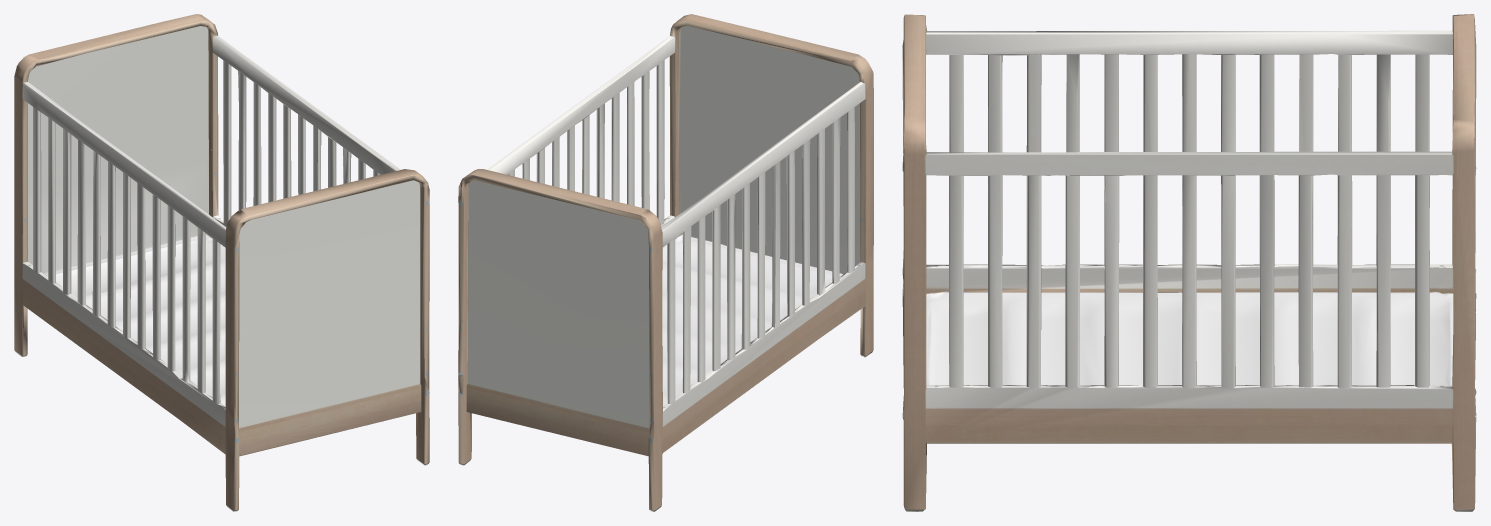
The model's file is alskvard_ozko_dzieciece_50314809.glb.
The picture shows the model from 3 angles, left to right: view 1: azimuth 30°, elevation 25°; view 2: azimuth 150°, elevation 25°; view 3: azimuth 270°, elevation 25°; orthographic projection. The views are drawn at different scales.
Parts seen in each view (by area): view 1: alskvard_ozko_dzieciece_50314809; view 2: alskvard_ozko_dzieciece_50314809; view 3: alskvard_ozko_dzieciece_50314809.
Boxes of the visible parts, x1,y1,x2,y2 form: alskvard_ozko_dzieciece_50314809: [14, 14, 429, 511]; alskvard_ozko_dzieciece_50314809: [458, 14, 873, 511]; alskvard_ozko_dzieciece_50314809: [902, 14, 1476, 511].
Size of the model in its own units: 0.6444 by 0.9248 by 1.26.
2 materials, 2 textured.
